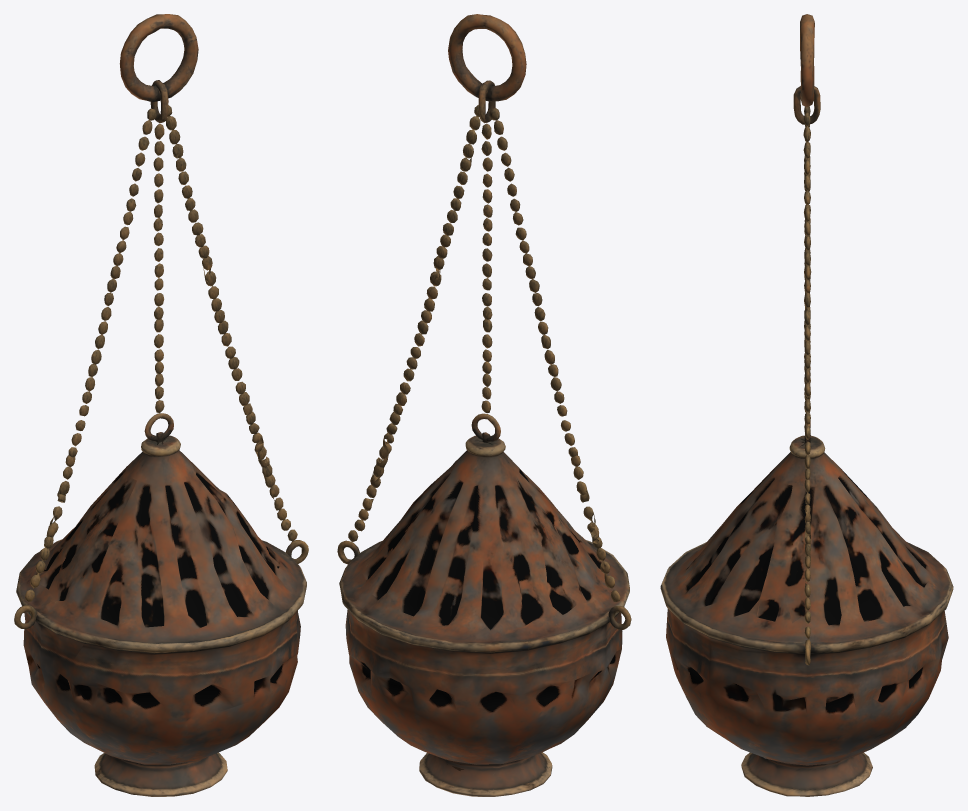
The model's file is censer.glb.
The picture shows the model from 3 angles, left to right: view 1: azimuth 30°, elevation 25°; view 2: azimuth 150°, elevation 25°; view 3: azimuth 270°, elevation 25°; orthographic projection.
Parts seen in each view (by area): view 1: geometry_0; view 2: geometry_0; view 3: geometry_0.
Boxes of the visible parts, box(x1,y1,x2,y2) form: geometry_0: box(14, 14, 308, 796); geometry_0: box(337, 14, 631, 796); geometry_0: box(660, 14, 953, 796).
Size of the model in its own units: 0.4079 by 1 by 0.3546.
1 material, 1 textured.
